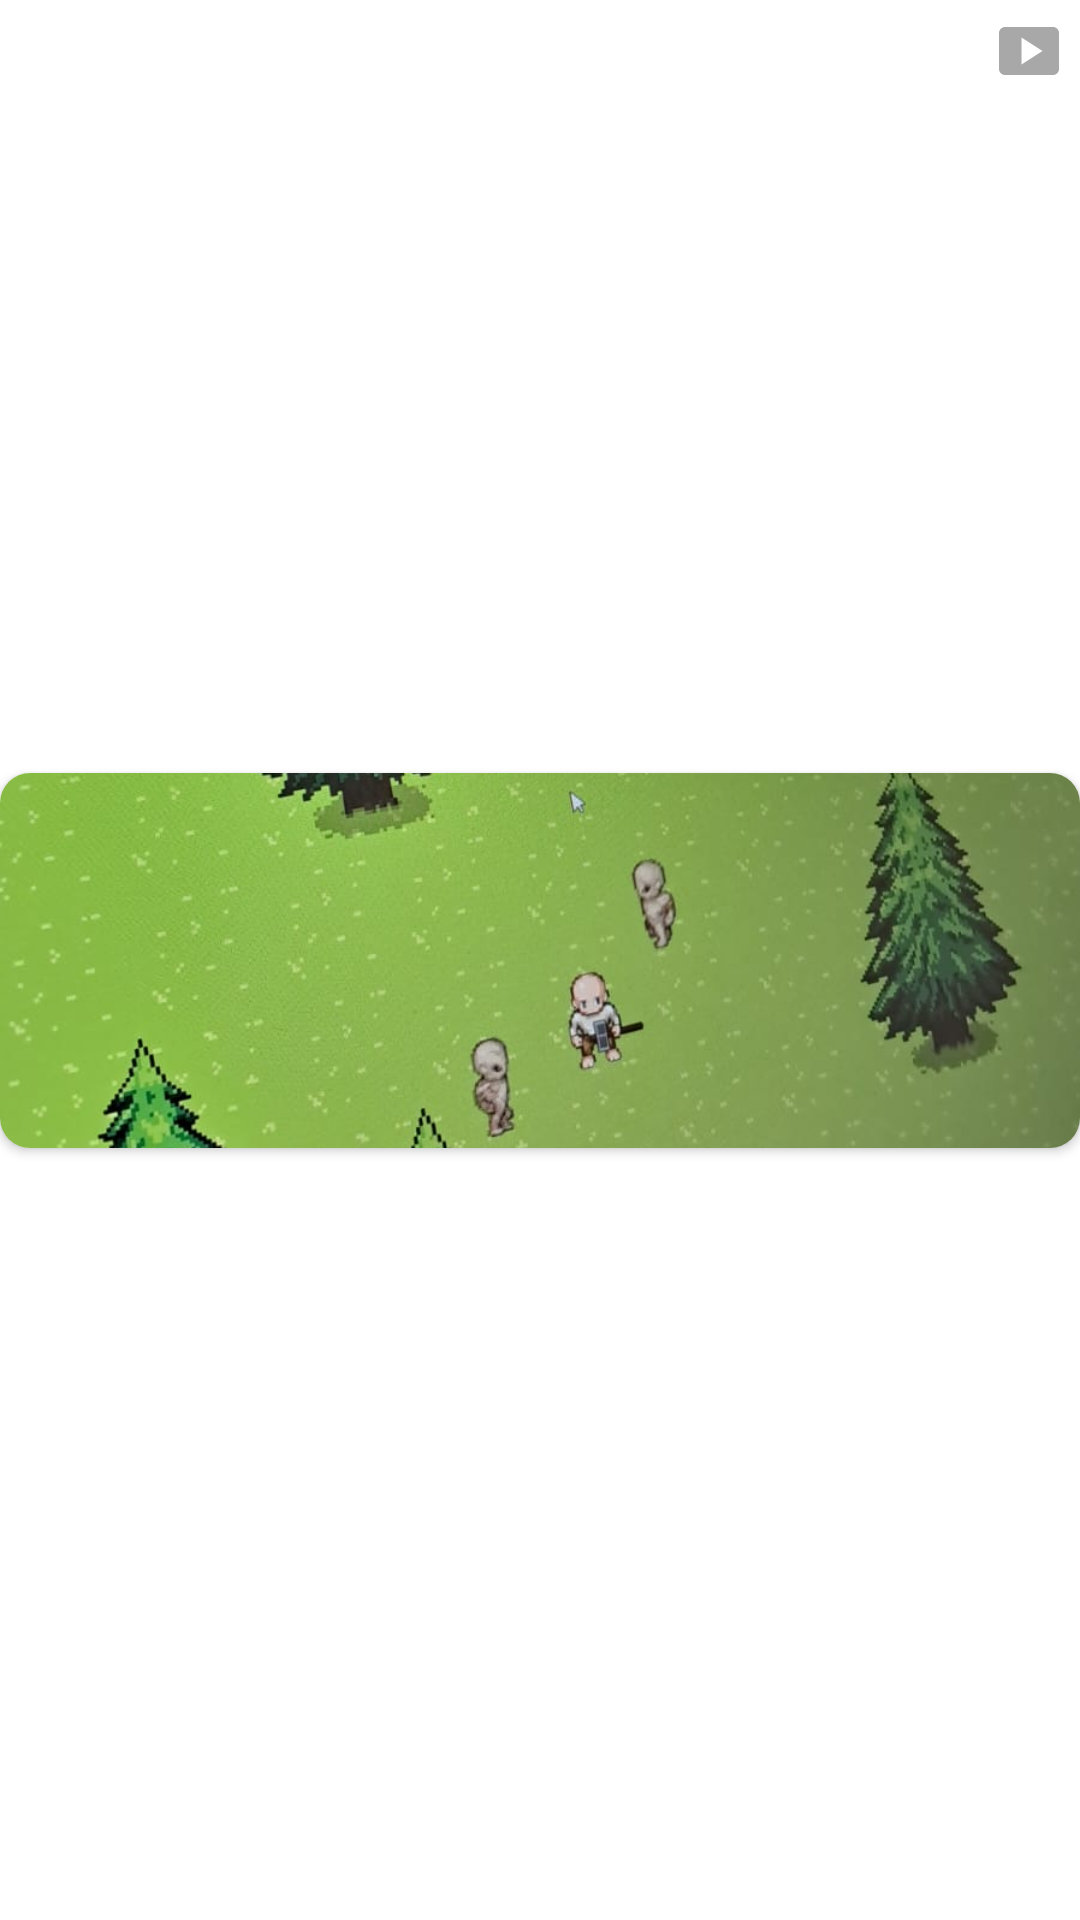

Icons on this 1080×1920 Android screen, each with the point to tap as [x,y]:
post video: [1029,51]
